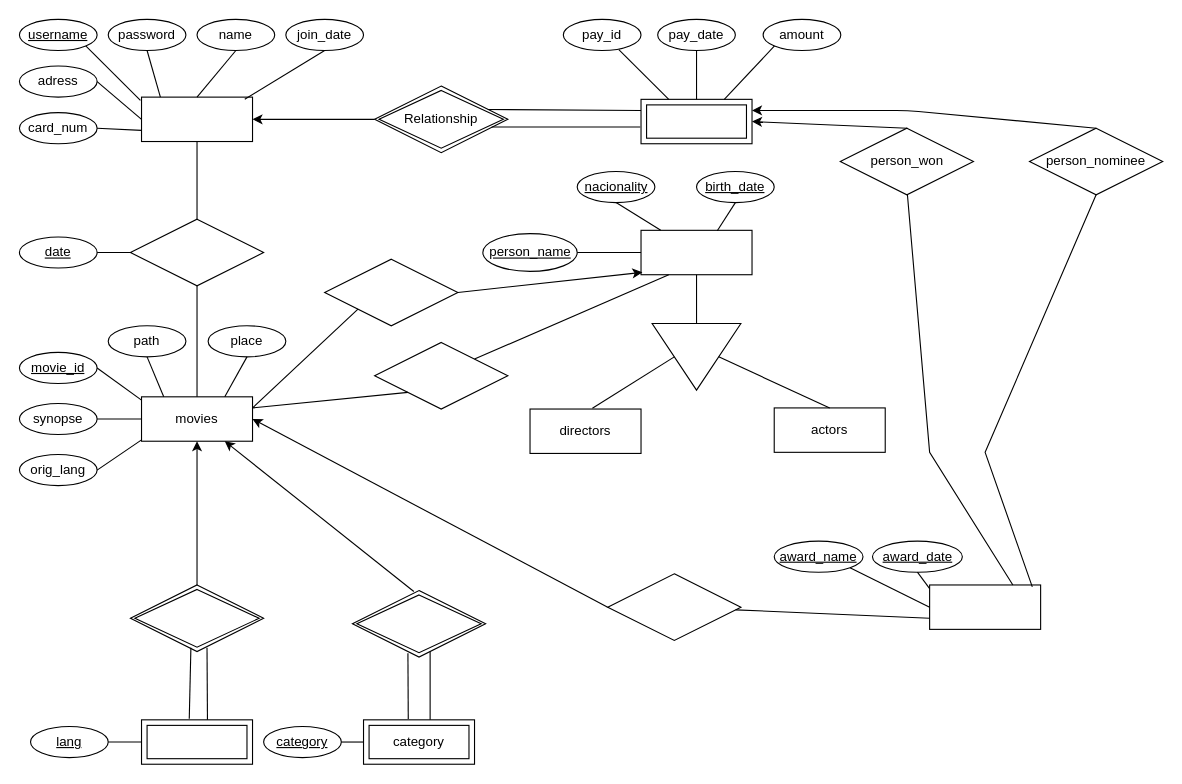
Some shapes in this 1182 by 784 pixel diagram are drawn without their labels. Each missing label, with the centre of its shape:
awards: the point at 985,606
categories: the point at 418,623
clients: the point at 196,119
crew: the point at 696,252
crew of: the point at 441,375
directed by: the point at 391,292
history: the point at 196,252
ISA: the point at 696,356
lang_available: the point at 196,618
langs: the point at 196,741
nominated_won: the point at 674,606
payments: the point at 696,121
